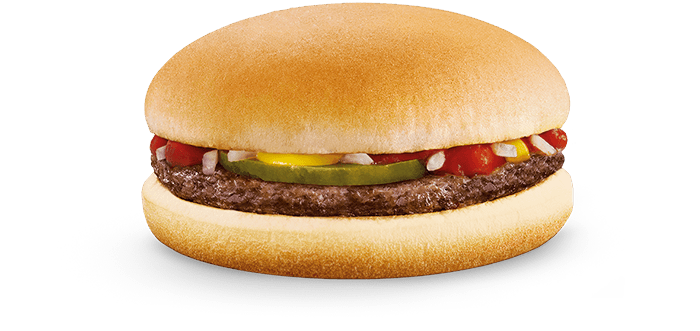hamburger: (135, 2, 578, 281)
